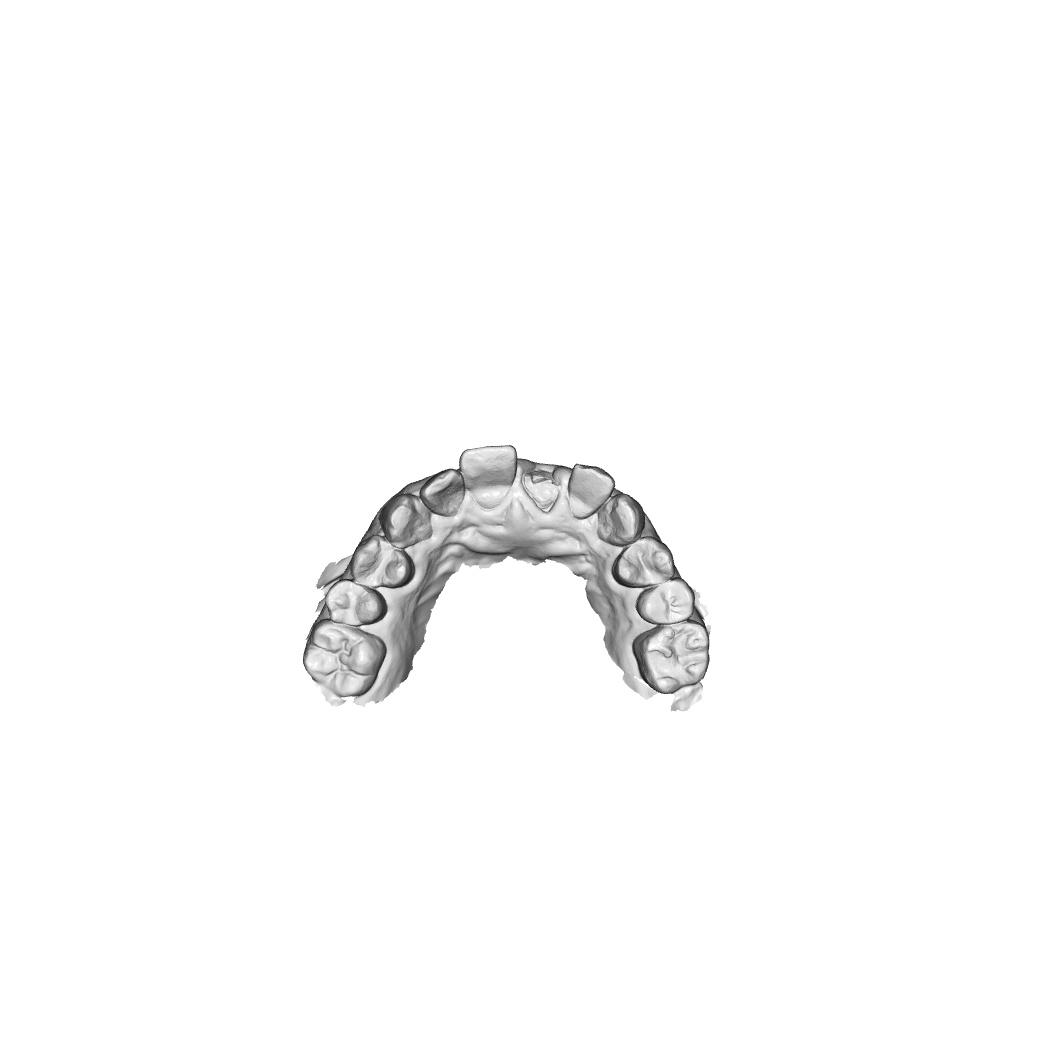canine: (379, 492, 434, 550), (596, 493, 646, 548)
incisor: (458, 443, 519, 510), (567, 462, 616, 521), (419, 467, 466, 517)
molar: (302, 618, 388, 698), (631, 619, 711, 695)
premolar: (349, 534, 416, 590), (612, 534, 676, 589), (324, 578, 389, 628), (635, 577, 696, 625)
